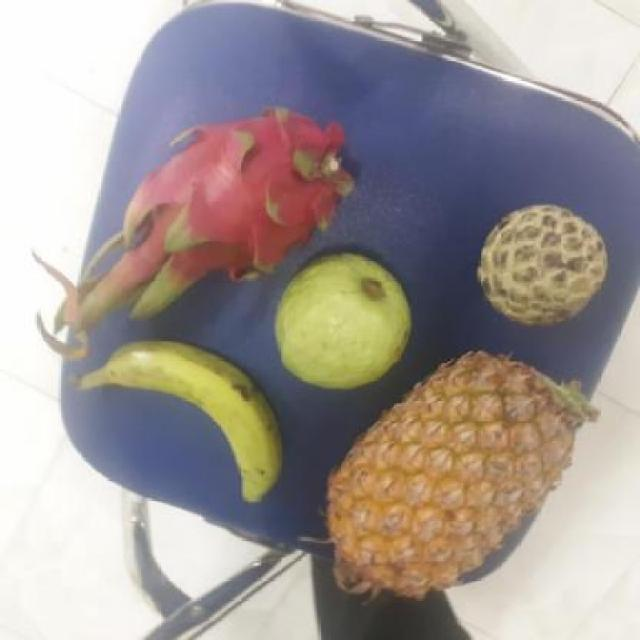dragon fruit: (130, 103, 344, 291)
guava: (270, 250, 412, 385)
pineapple: (323, 354, 583, 598)
sugar apple: (474, 202, 608, 327)
